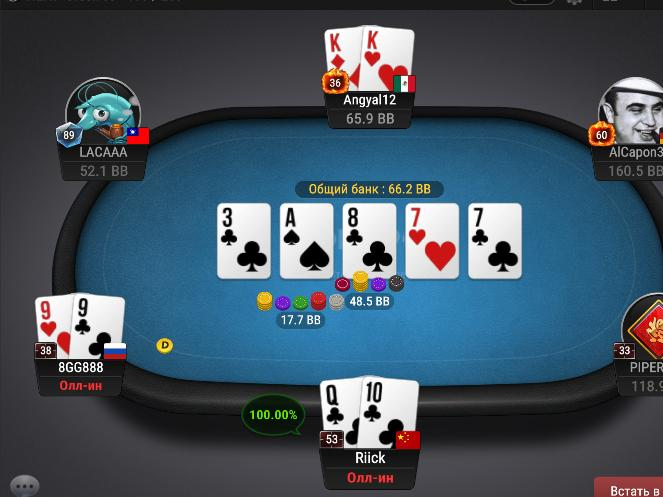10c: (359, 377, 419, 448)
3c: (218, 203, 271, 278)
7c: (469, 205, 523, 278)
7h: (406, 205, 459, 279)
8c: (342, 205, 397, 275)
9c: (72, 294, 125, 360)
9h: (36, 296, 72, 359)
As: (281, 204, 332, 279)
Kd: (323, 27, 362, 92)
Kh: (361, 25, 415, 93)
Qc: (319, 378, 362, 447)
